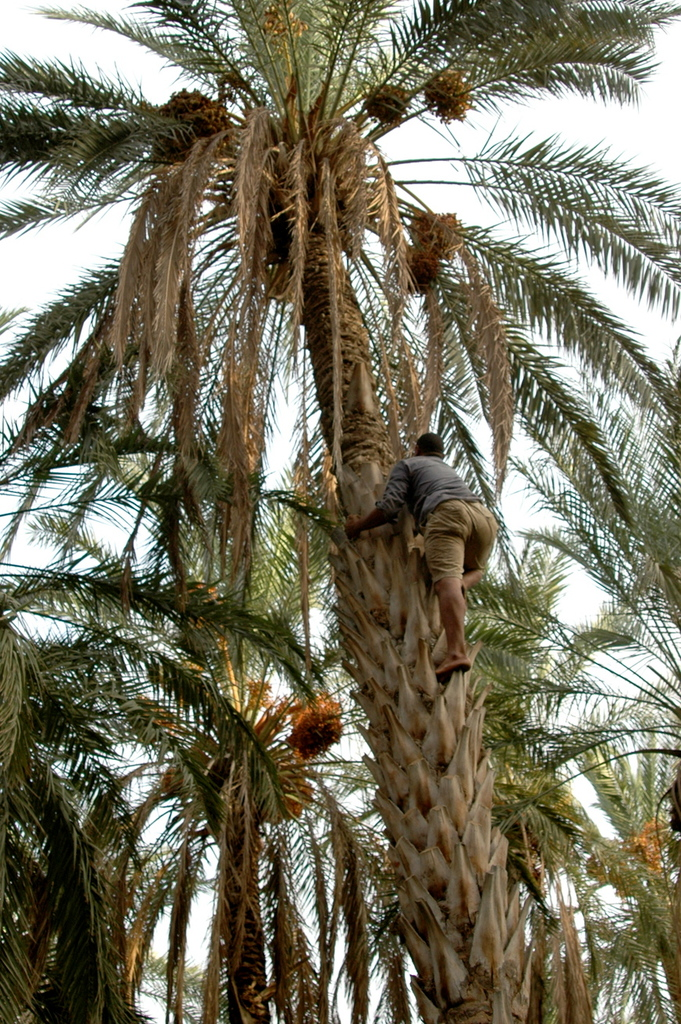person: (343, 429, 500, 684)
